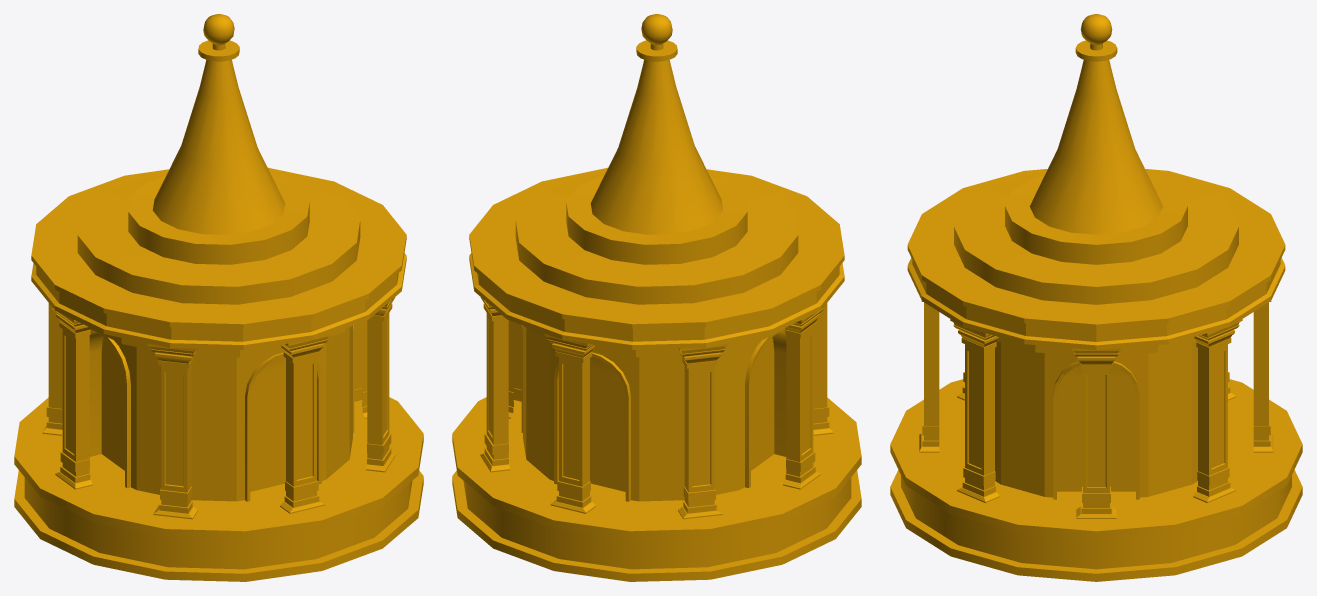
The model's file is SM_ceilingoutsideadd.fbx.
The picture shows the model from 3 angles, left to right: view 1: azimuth 30°, elevation 25°; view 2: azimuth 150°, elevation 25°; view 3: azimuth 270°, elevation 25°; orthographic projection.
Visible parts, largest first — view 1: SM_outsideceillingtop; view 2: SM_outsideceillingtop; view 3: SM_outsideceillingtop.
Part boxes in pixels (x1,y1,x2,y2): SM_outsideceillingtop: (14,14,423,581); SM_outsideceillingtop: (452,14,861,581); SM_outsideceillingtop: (890,14,1302,581).
Size of the model in its own units: 1022 by 1309 by 1022.
